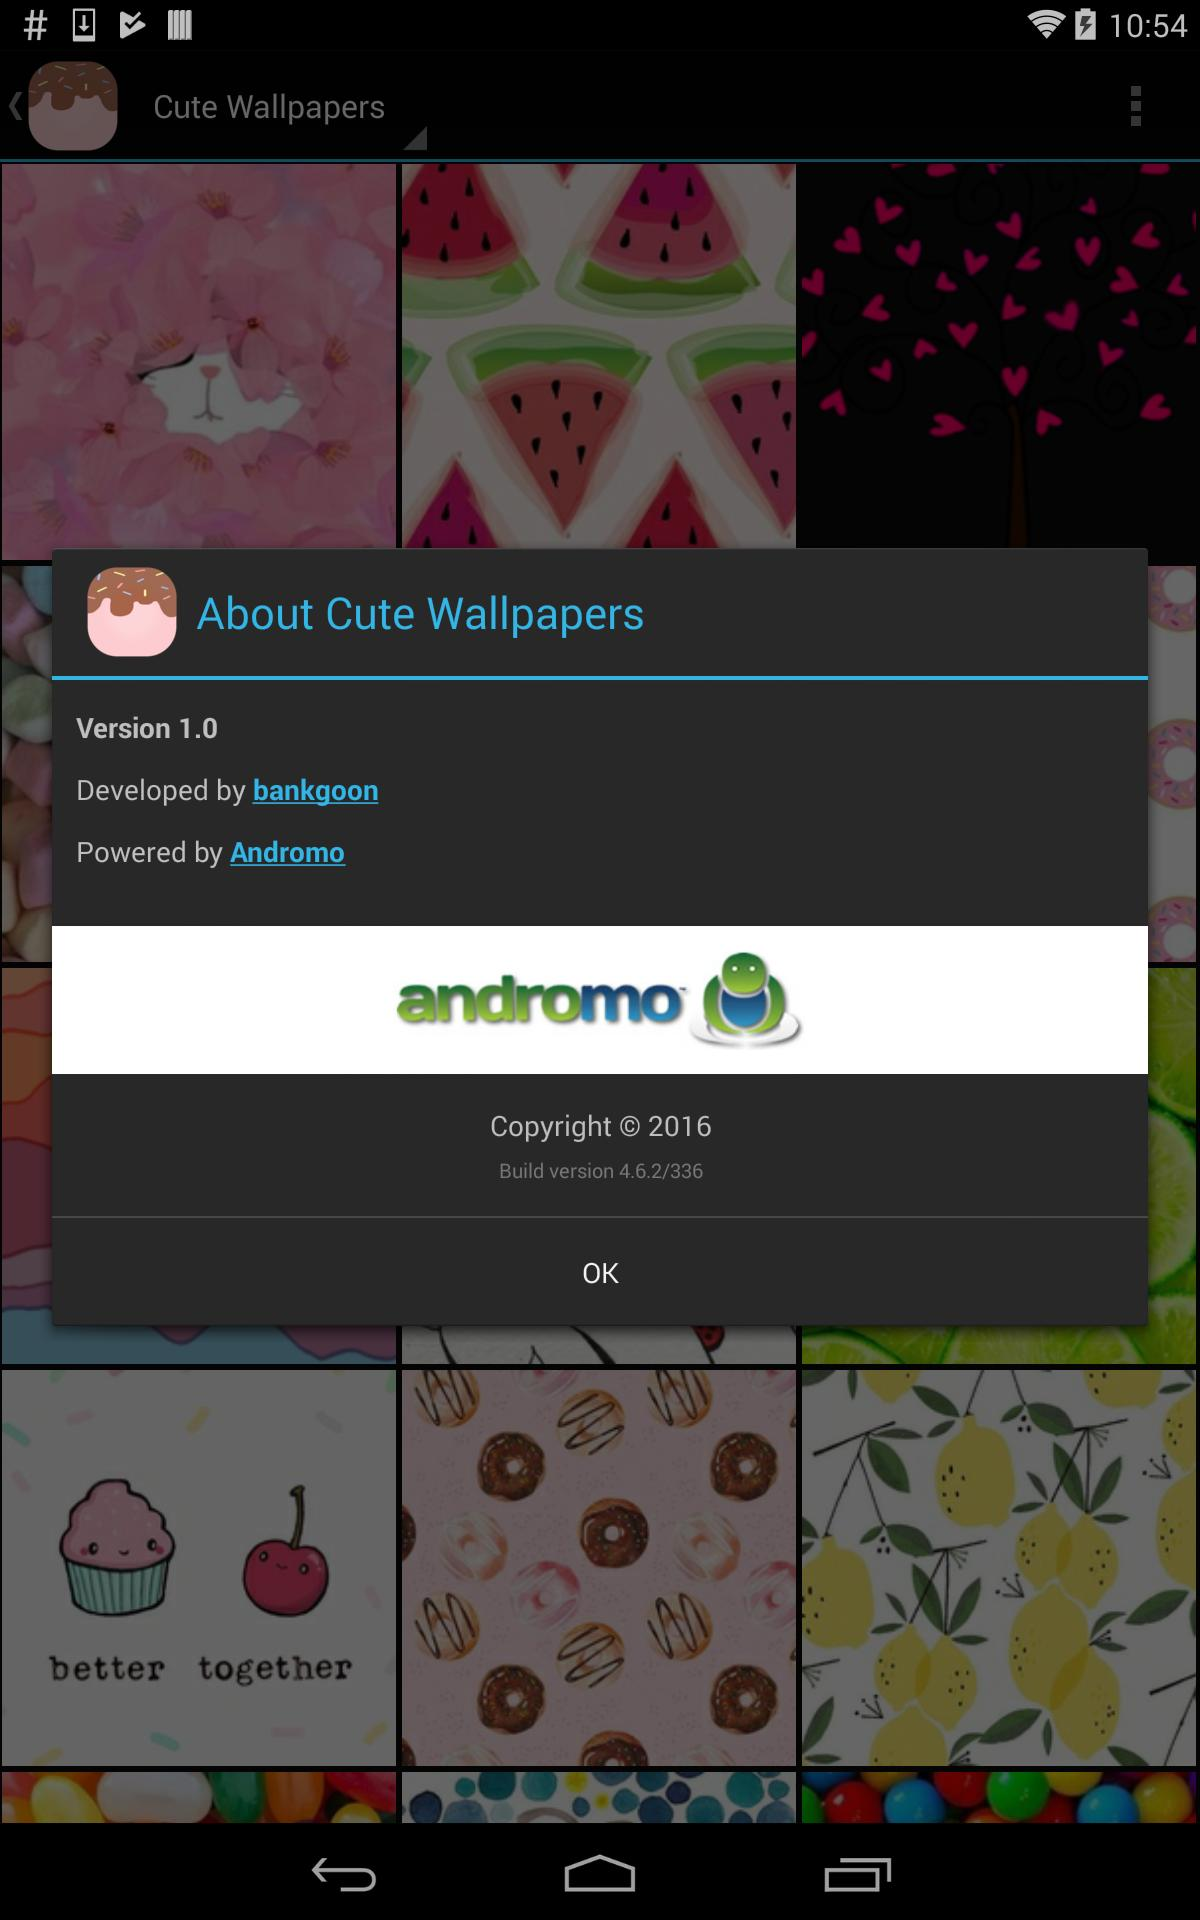android.view.View: (53, 676, 1147, 680)
android.widget.Button: (53, 1218, 1147, 1326)
android.widget.FrameLayout: (19, 532, 1181, 1342), (36, 680, 1164, 1216), (53, 680, 1147, 1216)
android.widget.ImageView: (393, 950, 806, 1051), (84, 564, 196, 659)
android.widget.LinearLayout: (36, 532, 1164, 1342), (53, 684, 1147, 1216), (36, 532, 1164, 680), (36, 1216, 1164, 1342), (84, 547, 1116, 676), (53, 1218, 1147, 1326)
android.widget.RelativeLayout: (53, 926, 1147, 1074)
android.widget.ScrollView: (53, 680, 1147, 1216)
android.widget.TextView: (53, 684, 1147, 770), (53, 770, 1147, 832), (53, 832, 1147, 894), (196, 582, 1116, 641), (53, 1106, 1147, 1145), (53, 1156, 1147, 1185)
